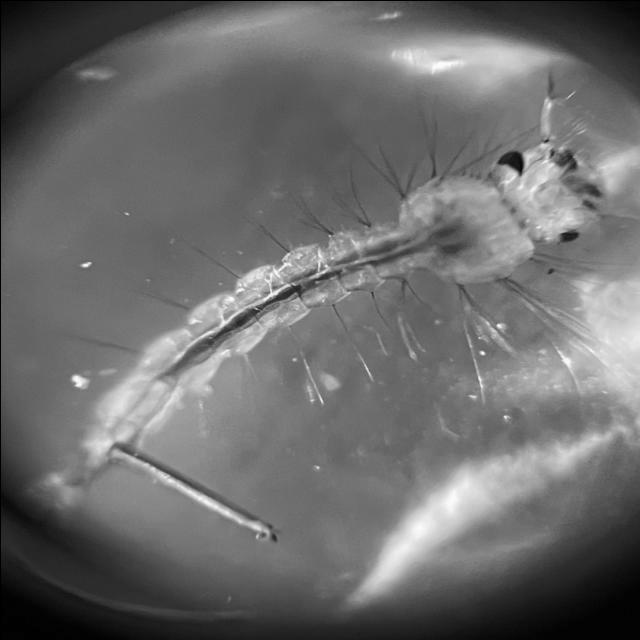larvas: (87, 145, 595, 478)
